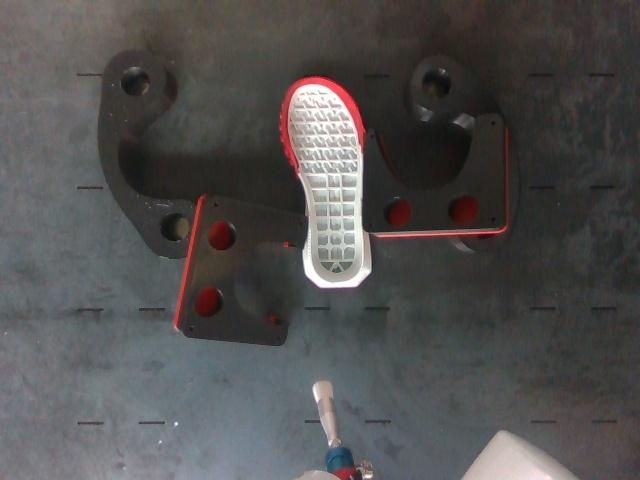shoes: (282, 77, 364, 284)
